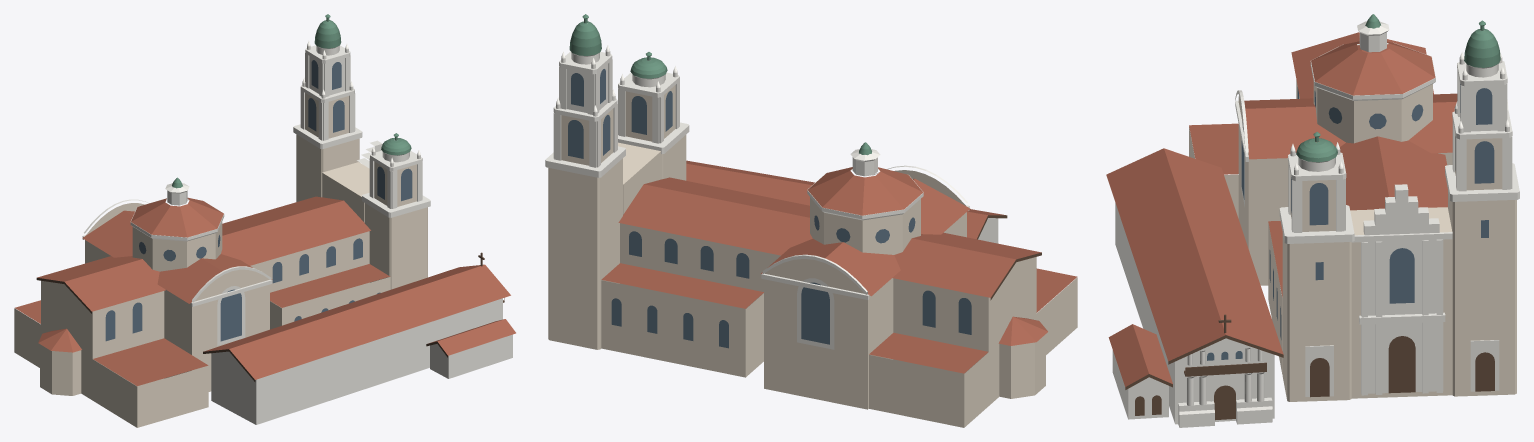
File: detail.glb
The picture shows the model from 3 angles, left to right: view 1: azimuth 30°, elevation 25°; view 2: azimuth 150°, elevation 25°; view 3: azimuth 270°, elevation 25°; orthographic projection. The views are drawn at different scales.
Visible parts, largest first — view 1: mission-dolores; view 2: mission-dolores; view 3: mission-dolores.
Boxes of the visible parts, x1,y1,x2,y2 form: mission-dolores: (14,14,515,427); mission-dolores: (545,14,1077,427); mission-dolores: (1106,14,1519,427).
Bounding box in the file's own units: 70.63 × 44.5 × 46.14.
